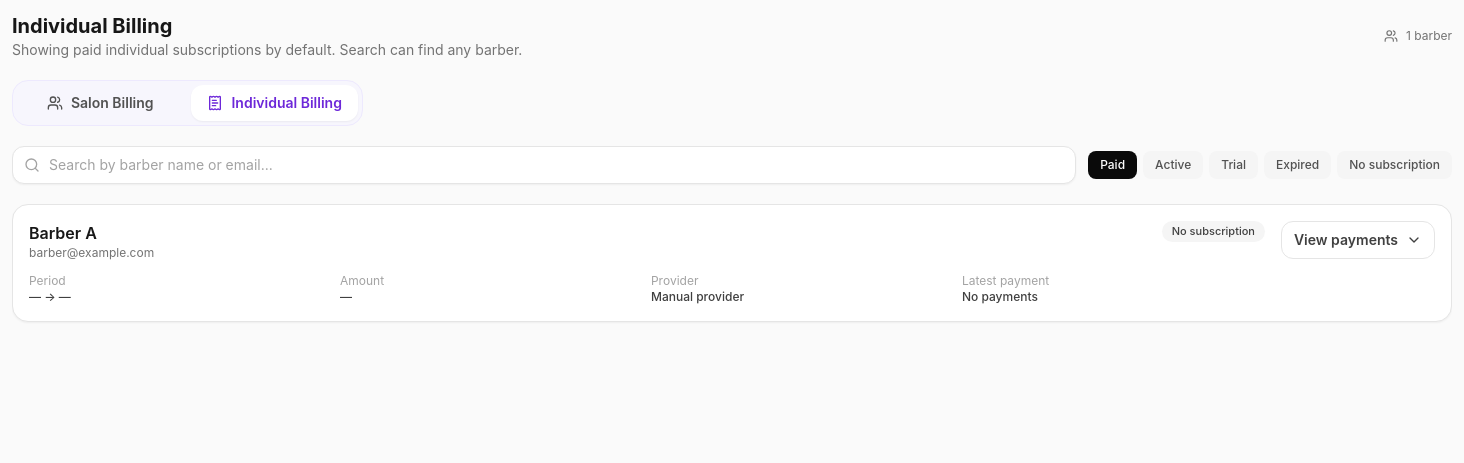
Test: PlatformIndividualBillingPage payment request lifecycle › keeps B rendered when A succeeds after B has become authoritative
The width and height of the screenshot is (1464, 463).
Expected: the heading "Barber A" is shown, [29,223,97,243]
Click the button "View payments".
click(1358, 240)  # box [1281,221,1435,259]
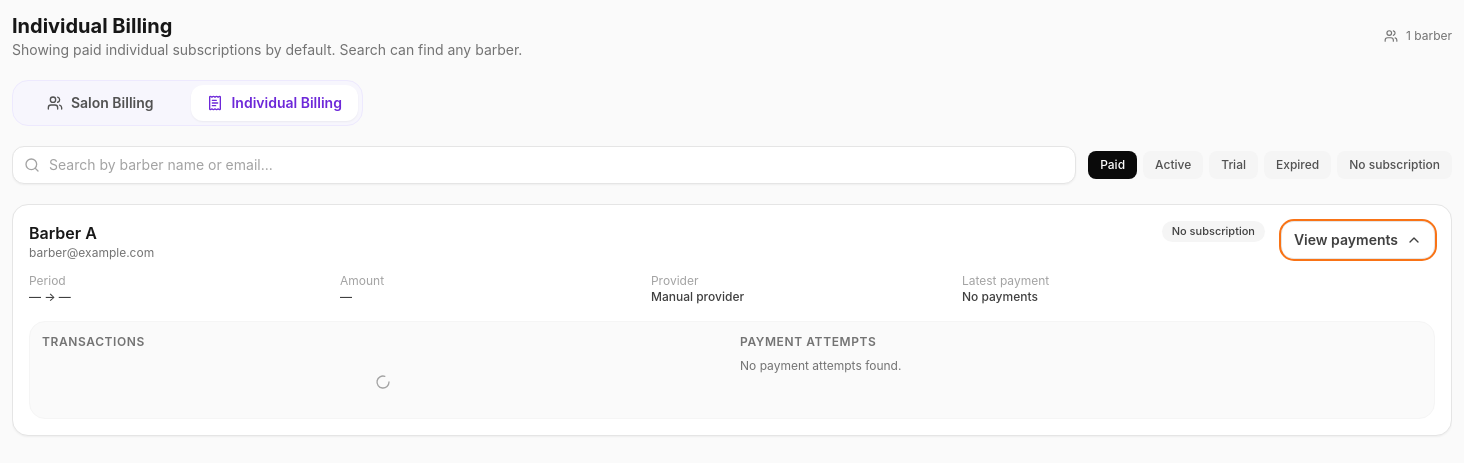
Click the button "View payments".
click(1358, 240)  # box [1281,221,1435,259]
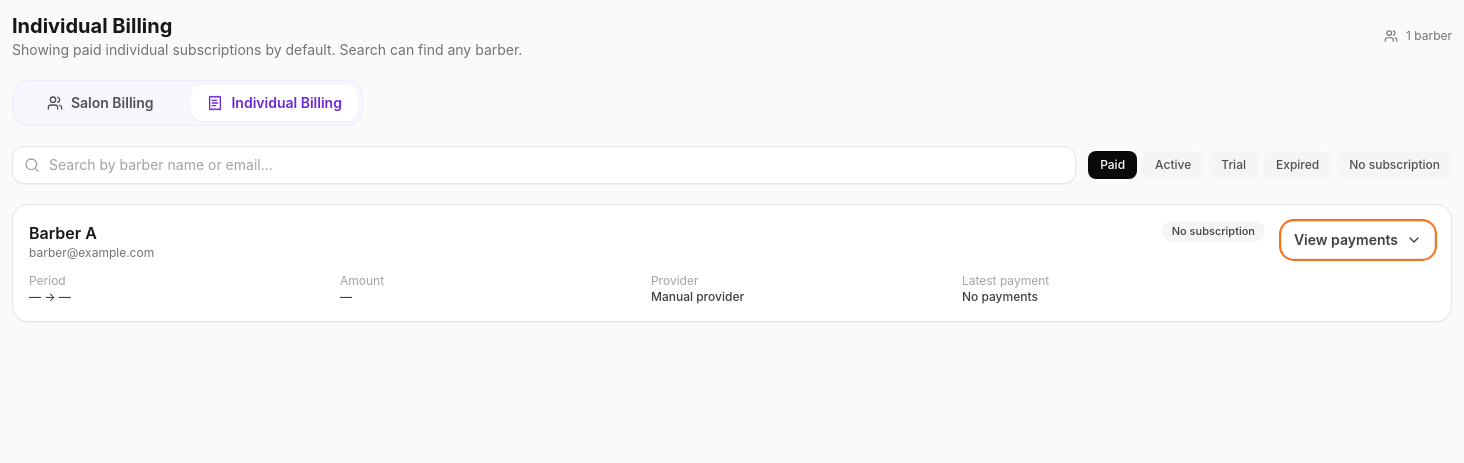
Click the button "View payments".
click(1358, 240)  # box [1281,221,1435,259]
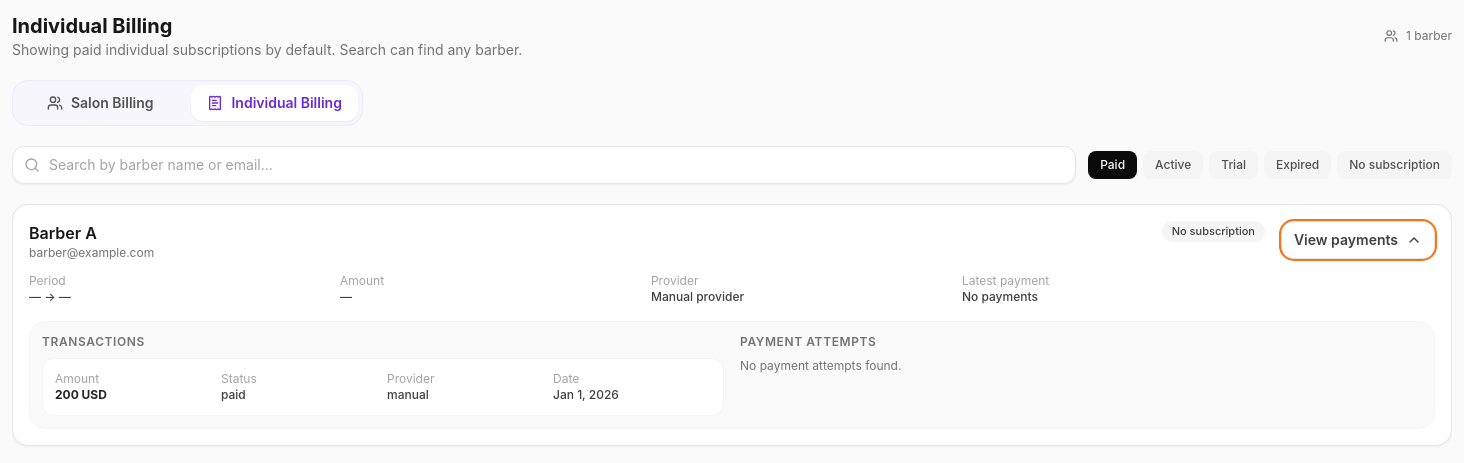
Now the text "200 USD" is shown, box [55,387,107,402]
